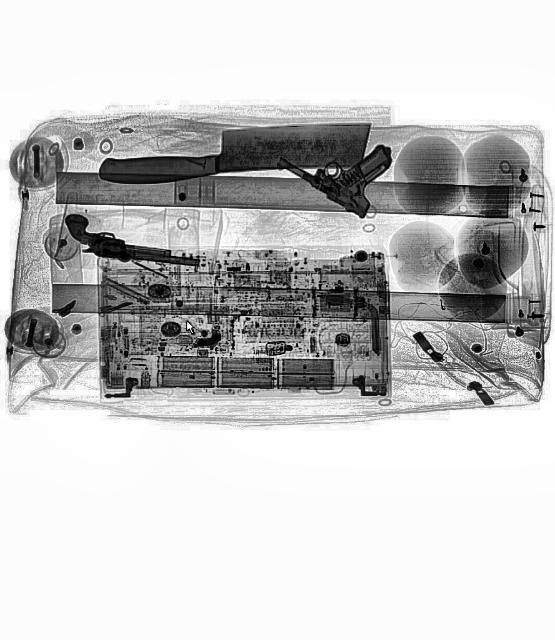Gun: (272, 100, 398, 220), (60, 210, 202, 274)
Knife: (98, 122, 372, 184)
